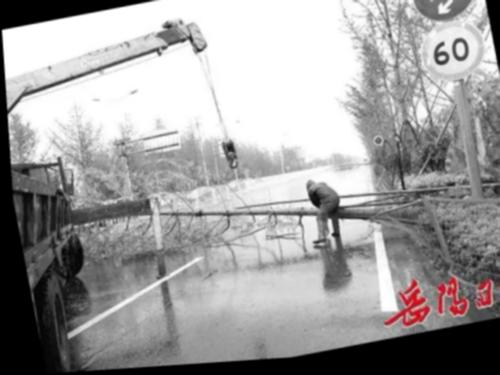Downstairs: (66, 108, 438, 306)
